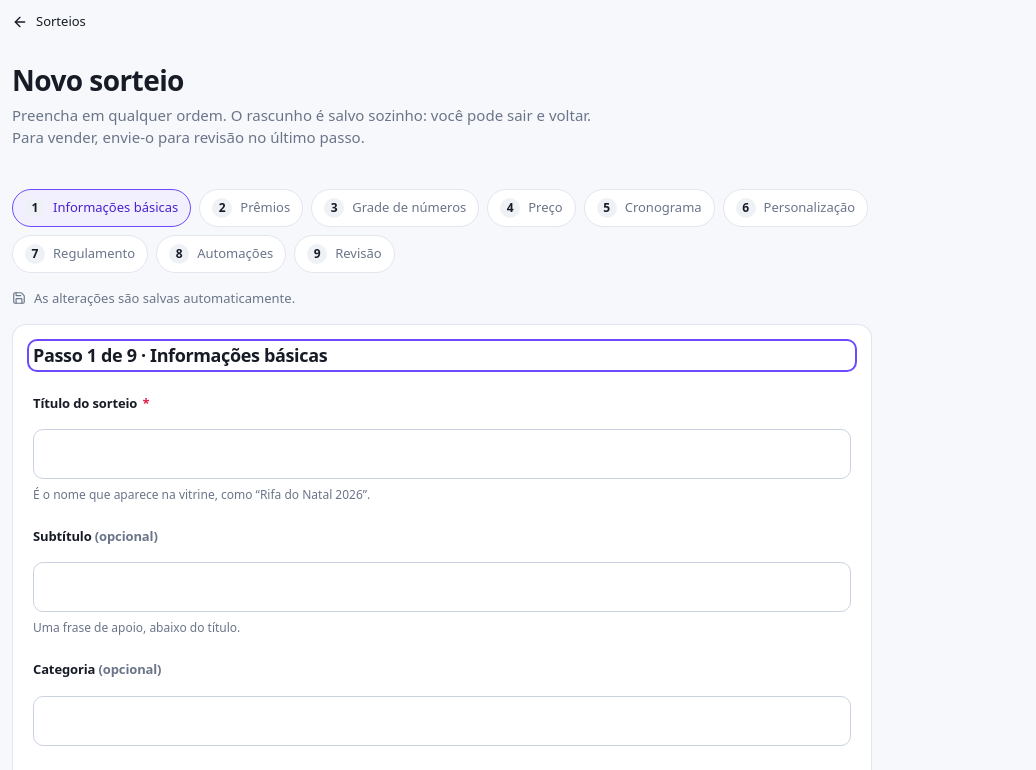
salvamento automatico › antes do minimo NADA vai ao servidor: o rascunho fica no aparelho, e a tela diz isso
Type "Rifa do Natal" into the field labelled "Título do sorteio *".
click(442, 454); type("Rifa do Natal")  # box x1=33 y1=429 x2=851 y2=479
Wait 1250 ms
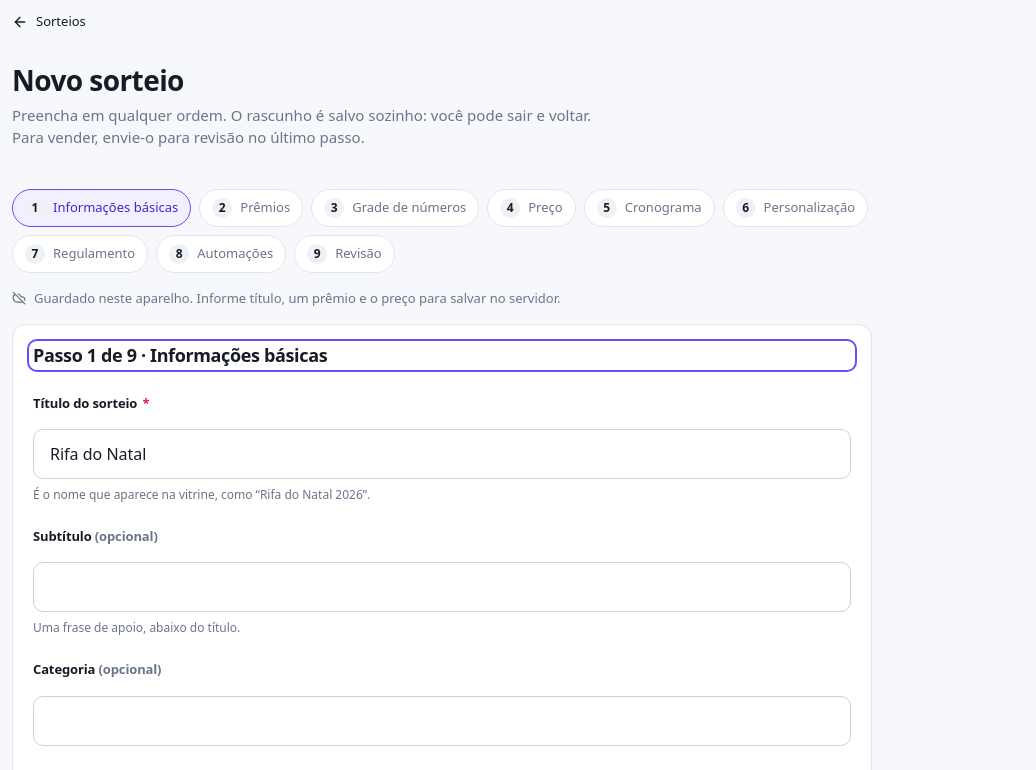
Expected: the text "Guardado neste aparelho" is shown, x1=34 y1=289 x2=560 y2=307
